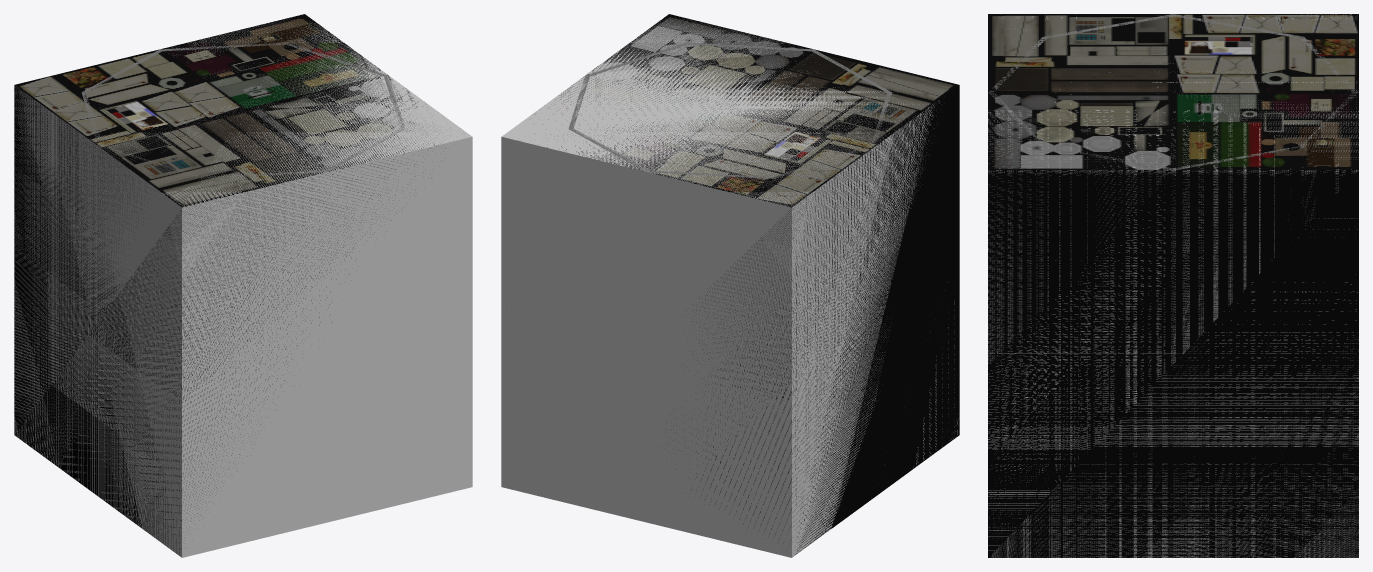
Rendered from pint.DAE.
3 renders of one model, left to right at view 1: azimuth 30°, elevation 25°; view 2: azimuth 150°, elevation 25°; view 3: azimuth 270°, elevation 25°, orthographic. The views are drawn at different scales.
Visible parts, largest first — view 1: bounds, colbox-1, pint100; view 2: bounds, colbox-1, pint100; view 3: colbox-1, bounds, pint100.
Part boxes in pixels (bbox=[...]): bounds: bbox=[14, 19, 472, 557]; colbox-1: bbox=[14, 14, 445, 554]; pint100: bbox=[81, 42, 404, 177]; bounds: bbox=[501, 20, 958, 557]; colbox-1: bbox=[547, 14, 959, 553]; pint100: bbox=[568, 42, 892, 178]; colbox-1: bbox=[988, 14, 1358, 557]; bounds: bbox=[988, 14, 1358, 557]; pint100: bbox=[988, 14, 1358, 170].
Size of the model in its own units: 13.12 by 13.12 by 15.13.
